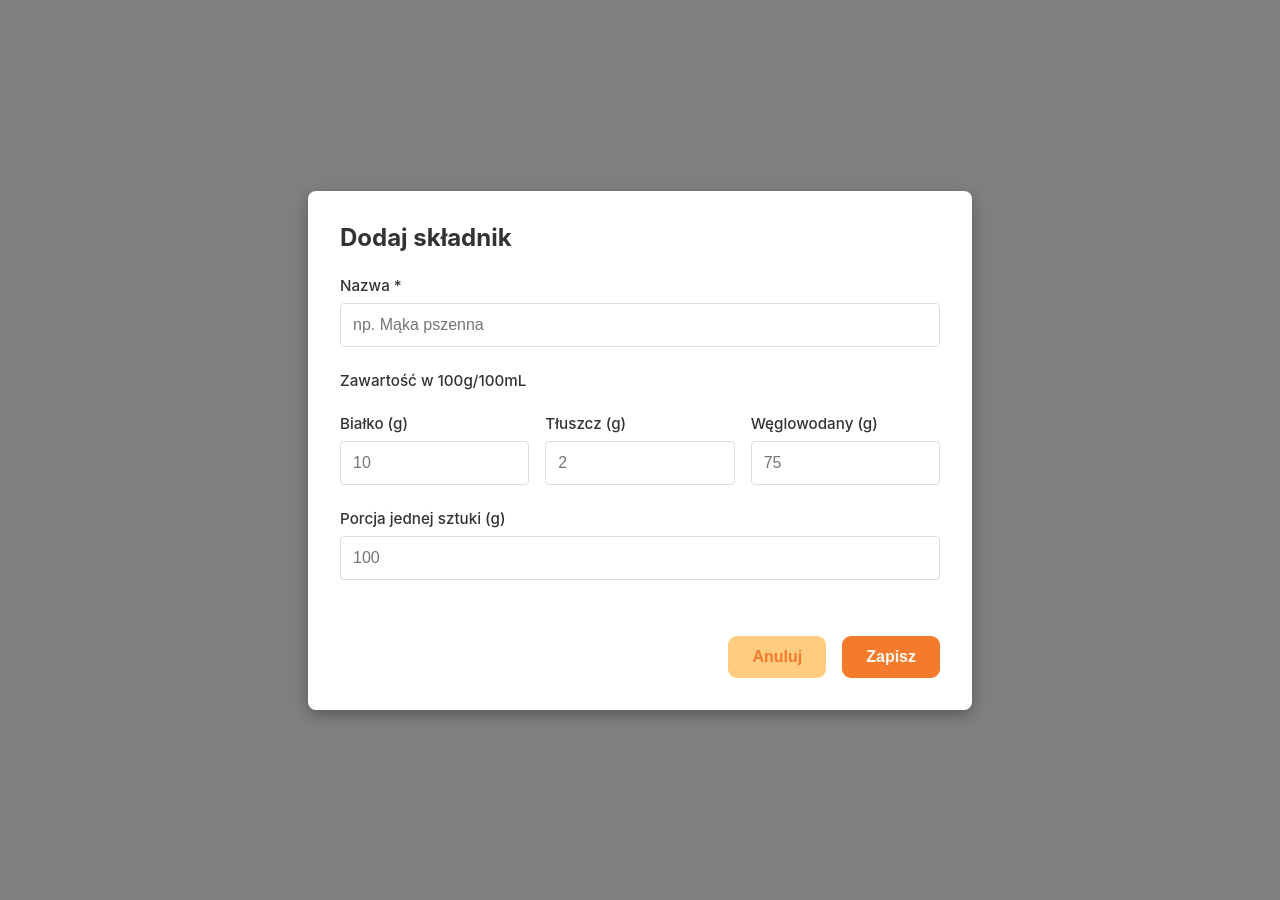
IngredientDialog › validates required fields
This screenshot has width=1280, height=900.
Click the button "Zapisz" at (891,656), box [842,636,940,678]
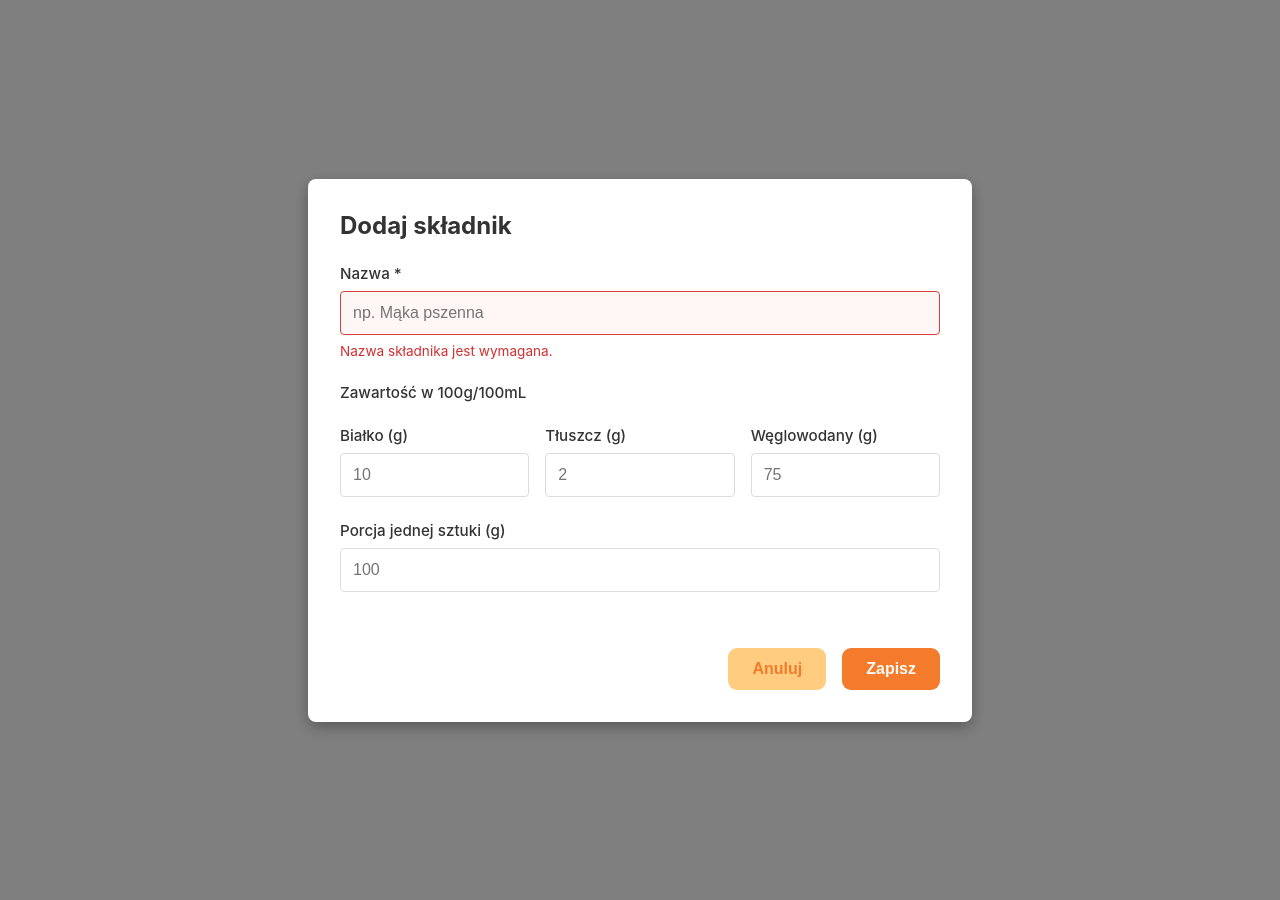
Expected: the text "Nazwa składnika jest wymagana." is shown, [340,342,553,358]
